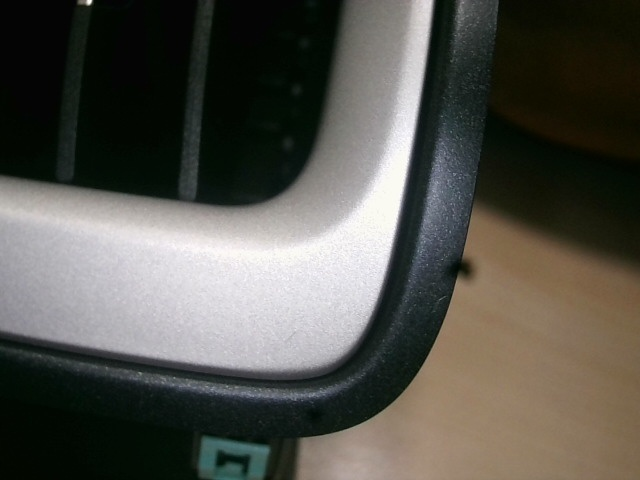NG: (426, 289, 450, 318), (281, 323, 309, 347)
